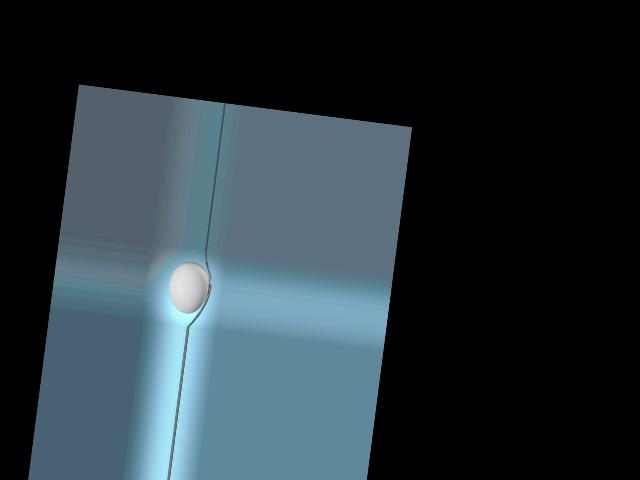egg: (166, 259, 212, 315)
